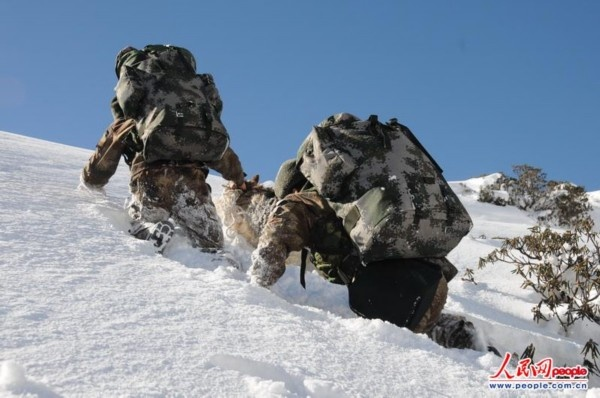falling: (70, 39, 256, 266)
